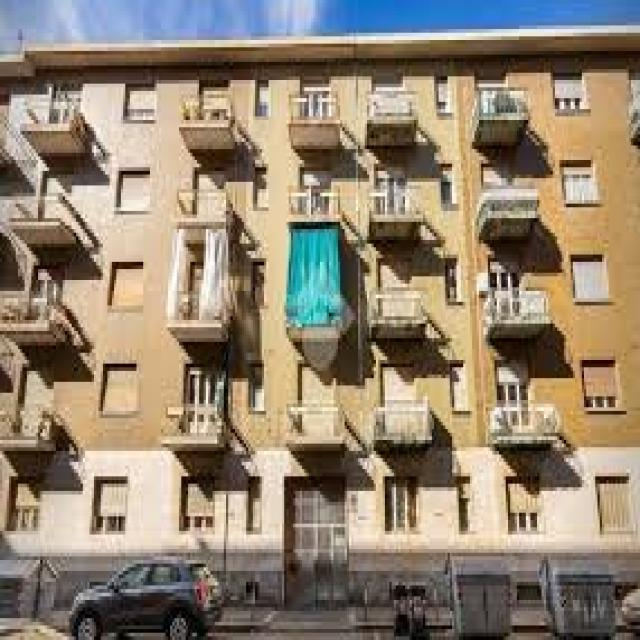window: (98, 360, 139, 429), (2, 480, 47, 538), (580, 364, 624, 418), (596, 476, 634, 534), (110, 160, 150, 215), (91, 476, 128, 534), (385, 476, 421, 531), (506, 480, 544, 531), (552, 66, 590, 116), (562, 160, 598, 211), (570, 258, 608, 302), (108, 262, 146, 305), (186, 477, 217, 528), (120, 80, 156, 120), (246, 356, 264, 433), (450, 356, 470, 418), (251, 251, 266, 302), (250, 164, 268, 204), (459, 480, 470, 545), (432, 76, 452, 109), (445, 258, 459, 302), (439, 167, 452, 211), (257, 84, 271, 120)
